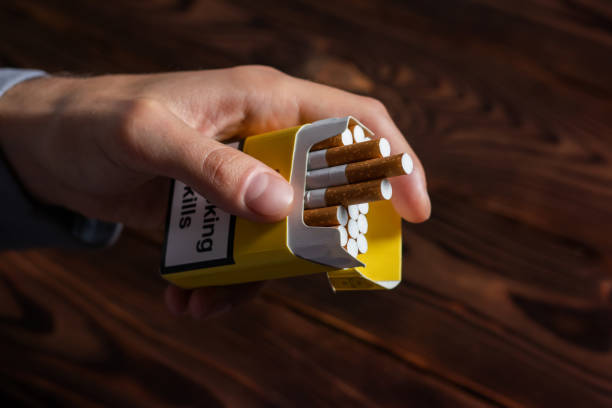cigarette: (156, 113, 413, 295), (305, 153, 412, 191), (307, 138, 392, 170), (303, 179, 393, 208), (307, 126, 354, 153), (302, 204, 349, 228), (336, 225, 350, 246), (347, 217, 359, 240), (350, 125, 365, 143), (346, 238, 358, 259), (357, 233, 368, 254), (357, 214, 369, 233), (347, 204, 361, 219), (359, 203, 370, 215)
